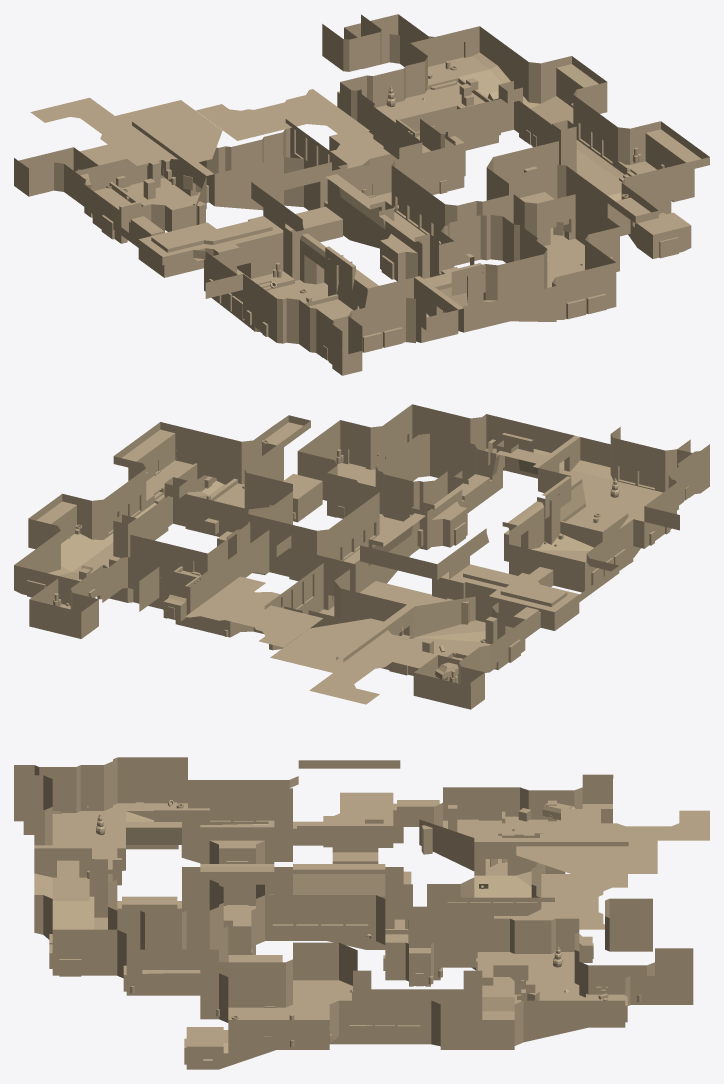
Rendered from dust2.obj.
3 views of the same model, one above another, from view 1: azimuth 30°, elevation 25°; view 2: azimuth 150°, elevation 25°; view 3: azimuth 270°, elevation 25° (orthographic). The views are drawn at different scales.
Visible parts, largest first — view 1: Dust_II_3D_Object_, Dust_II_Group_158, Dust_II_Group_159, Dust_II_Group_106, Dust_II_Group_105; view 2: Dust_II_3D_Object_, Dust_II_Group_158, Dust_II_Group_159, Dust_II_Group_106; view 3: Dust_II_3D_Object_, Dust_II_Group_158, Dust_II_Group_159, Dust_II_Group_106.
Part boxes in pixels (x1,y1,x2,y2): Dust_II_3D_Object_: (14,14,709,375); Dust_II_Group_158: (30,97,222,165); Dust_II_Group_159: (196,89,369,140); Dust_II_Group_106: (325,246,355,290); Dust_II_Group_105: (449,263,482,295); Dust_II_3D_Object_: (14,404,709,709); Dust_II_Group_158: (270,618,419,704); Dust_II_Group_159: (186,576,322,647); Dust_II_Group_106: (542,476,571,518); Dust_II_3D_Object_: (14,757,693,1069); Dust_II_Group_158: (516,810,709,873); Dust_II_Group_159: (494,874,627,929); Dust_II_Group_106: (154,808,209,833).
Size of the model in its own units: 268 by 47.27 by 298.
